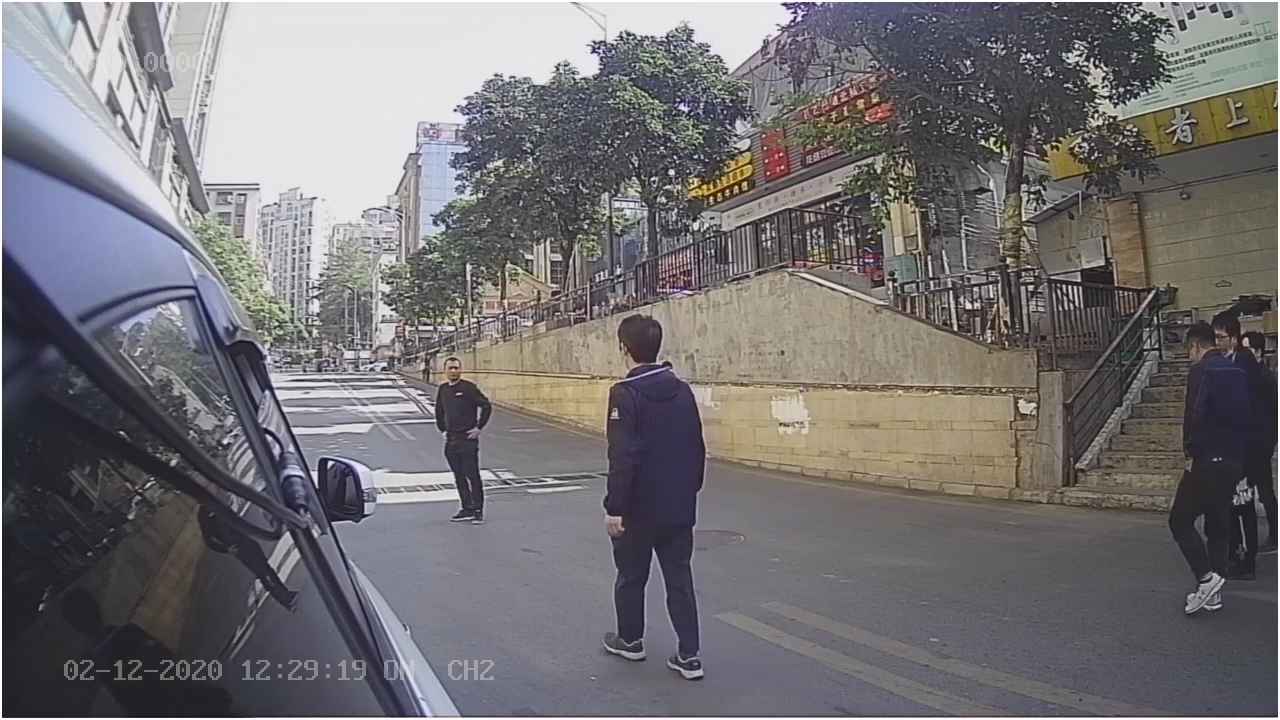person: (591, 311, 714, 678), (416, 349, 511, 531)
